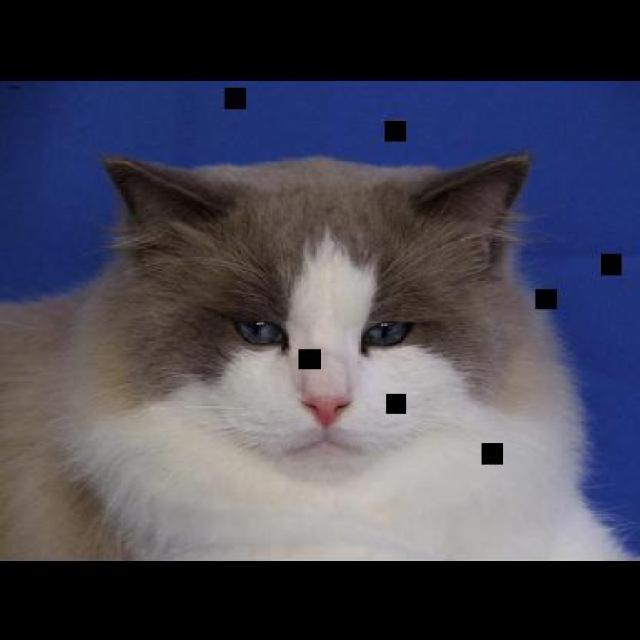unauthorized: (0, 147, 638, 560)
